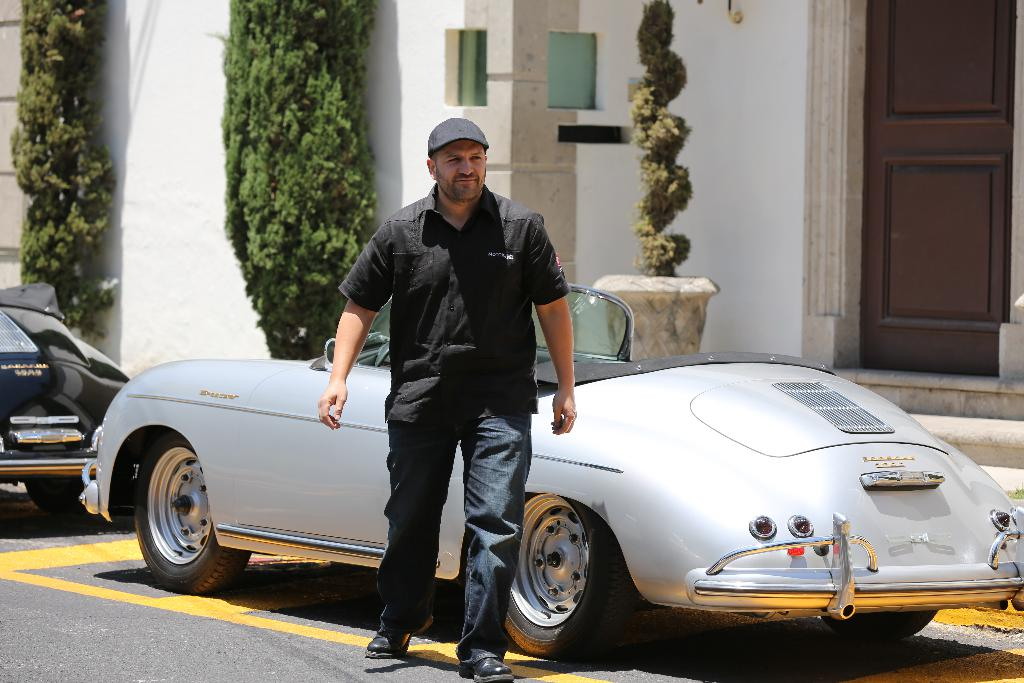mobil: (92, 334, 1004, 665)
